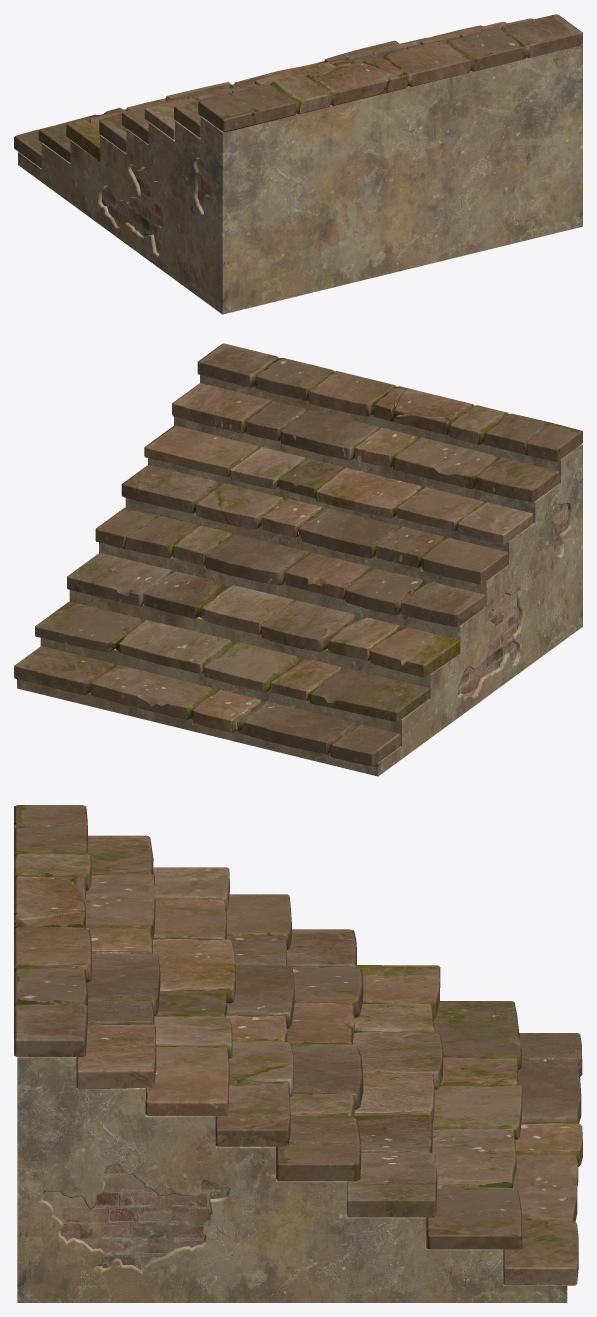
3 renders of one model, top to bottom at view 1: azimuth 30°, elevation 25°; view 2: azimuth 150°, elevation 25°; view 3: azimuth 270°, elevation 25°, orthographic. The views are drawn at different scales.
Parts seen in each view (by area): view 1: SM_Human_Ruins_Steps_01_LOD0; view 2: SM_Human_Ruins_Steps_01_LOD0; view 3: SM_Human_Ruins_Steps_01_LOD0.
Part boxes in pixels (x1,y1,x2,y2): SM_Human_Ruins_Steps_01_LOD0: (14,14,582,314); SM_Human_Ruins_Steps_01_LOD0: (14,343,582,776); SM_Human_Ruins_Steps_01_LOD0: (14,805,582,1302).
Size of the model in its own units: 4 by 2.07 by 4.07.
3 materials, 3 textured.
